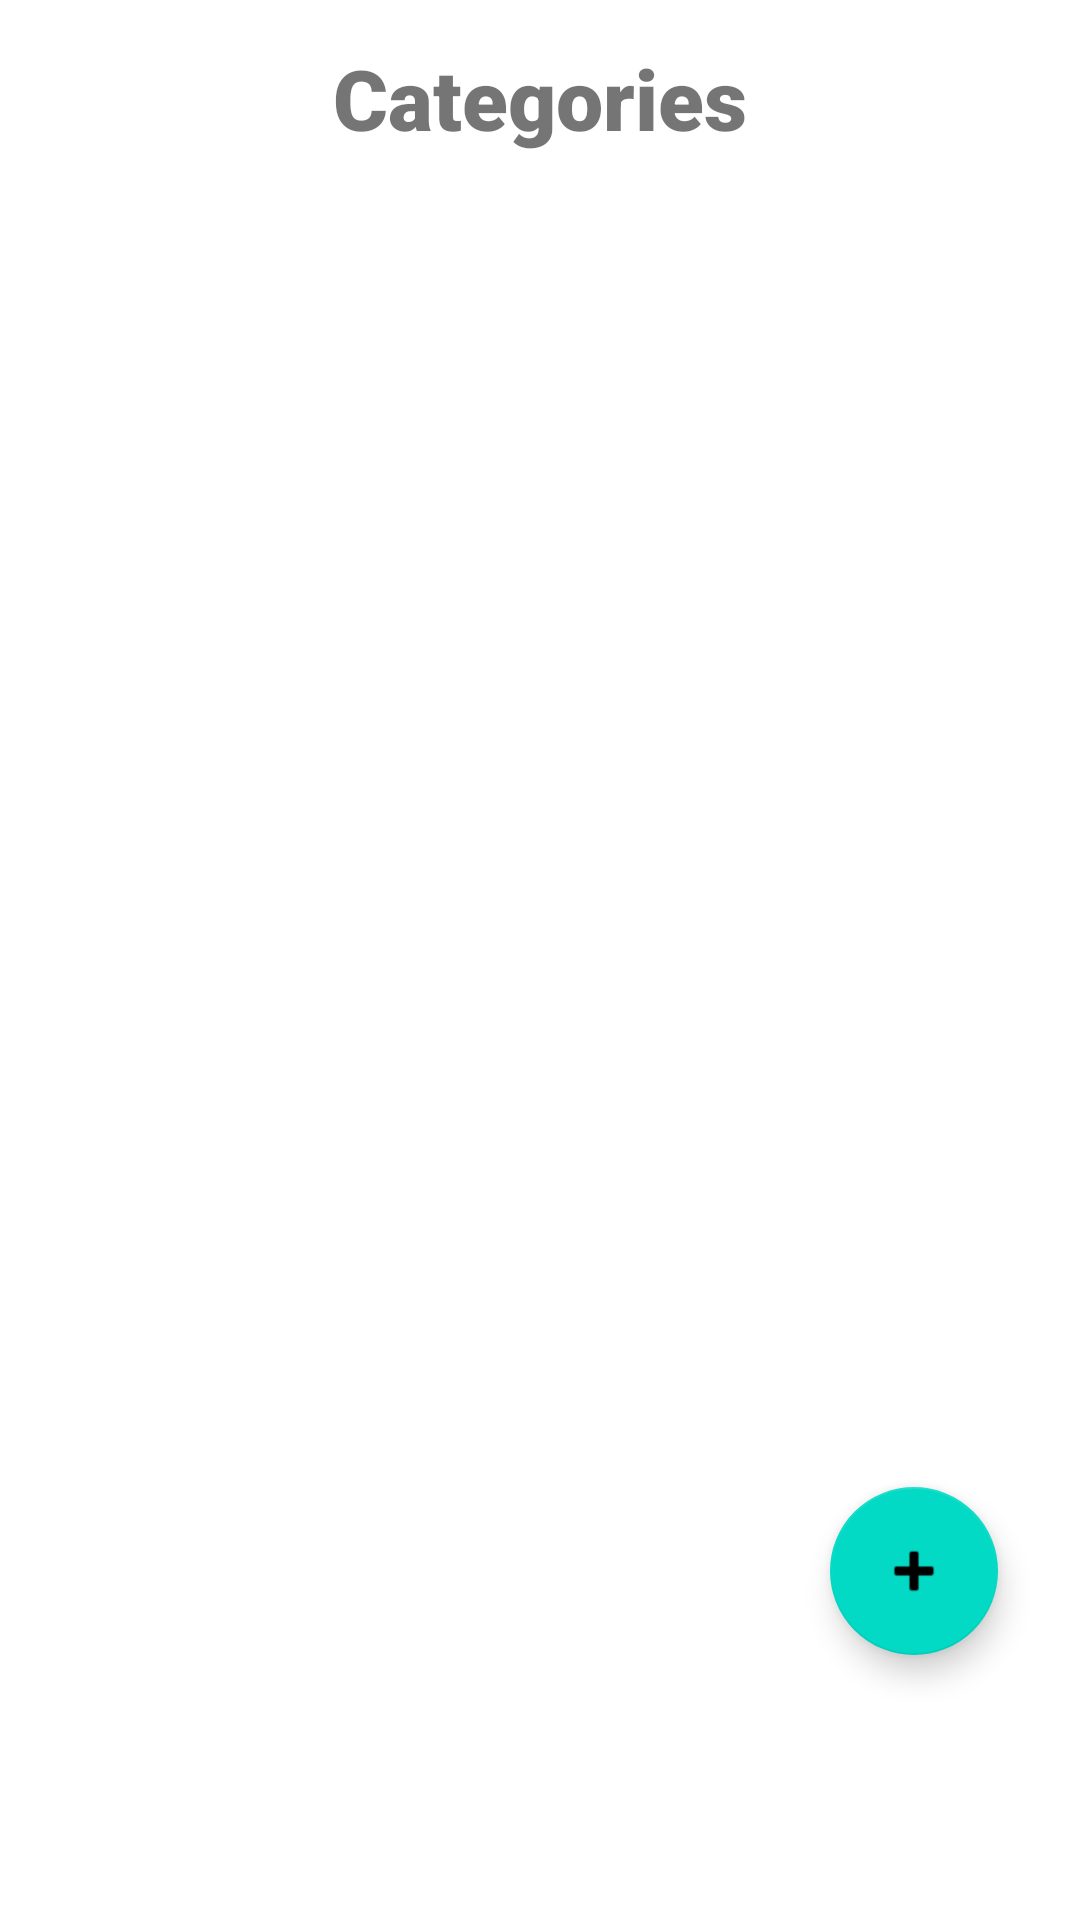

Point at icon controls on the screen. Image size 1080w x 1920h, points as (x,y).
Add Category: (914,1571)
